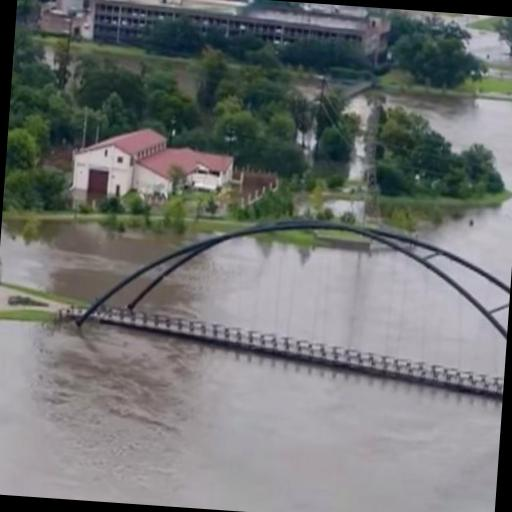flood: (0, 322, 502, 512), (136, 230, 507, 376), (0, 221, 216, 298), (392, 97, 512, 194), (421, 198, 512, 289), (426, 255, 510, 334), (344, 94, 370, 126)
house: (94, 0, 382, 53), (60, 120, 180, 212)
